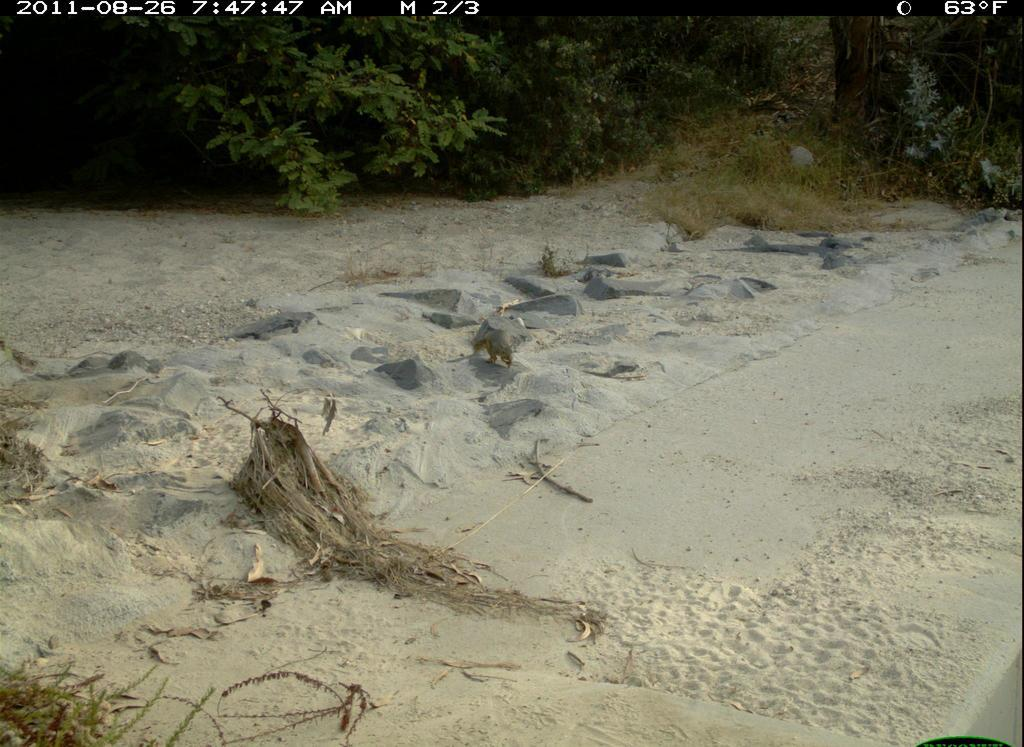squirrel: (463, 318, 527, 372)
